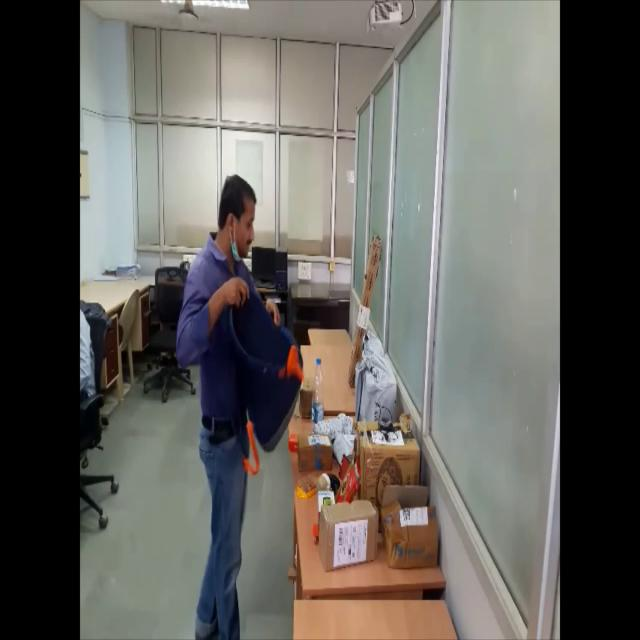shoplifting: (174, 166, 306, 640)
